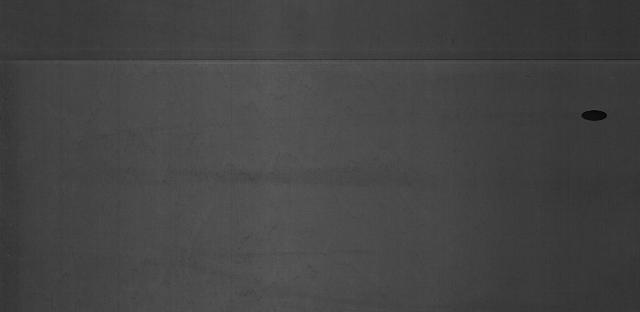punching_hole: (577, 103, 613, 127)
welding_line: (3, 50, 640, 74)
